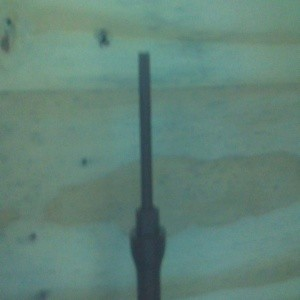obeng: (128, 50, 167, 300)
